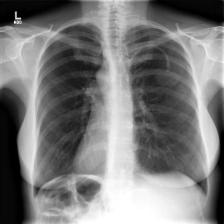normal: (29, 17, 210, 218)
